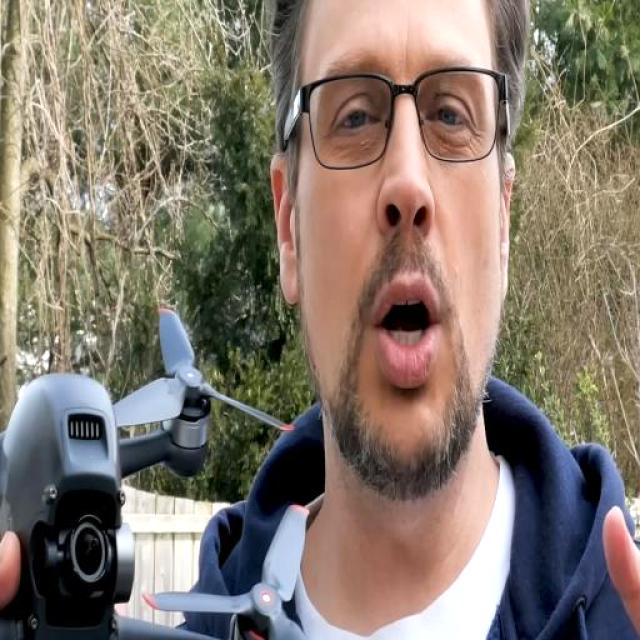bird: (0, 211, 284, 640)
